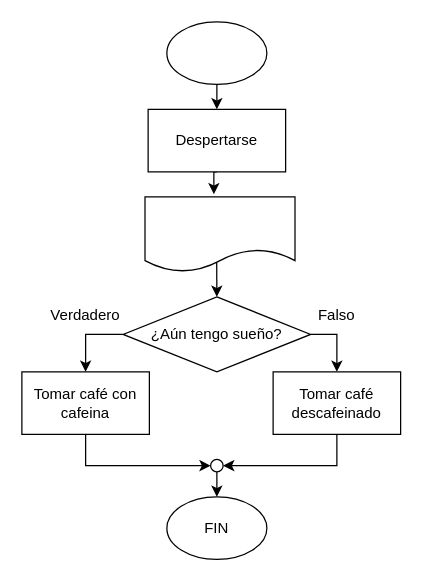
Image size: 423x581. Some labels were removed from this diagram. Here are the shapes that lost their labels. From the top down, the centre of each, then its label:
point 216,52: INICIO
point 219,234: "Buenos días" - a mi compañero de piso.
